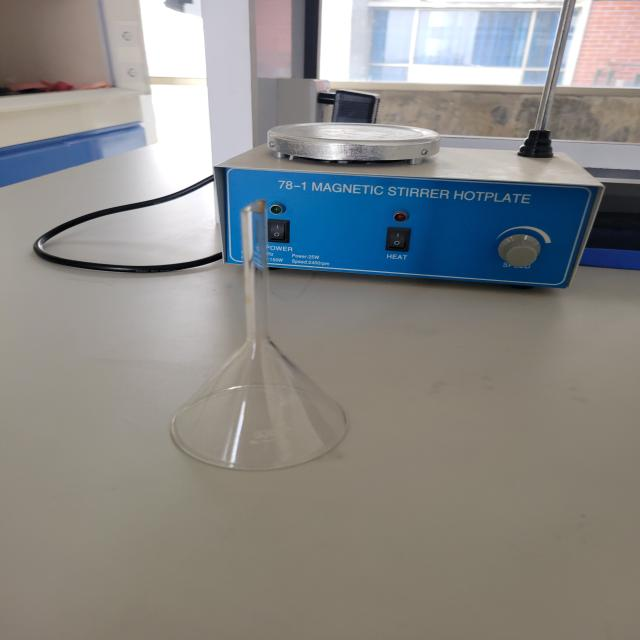Funnel: (121, 188, 402, 499)
